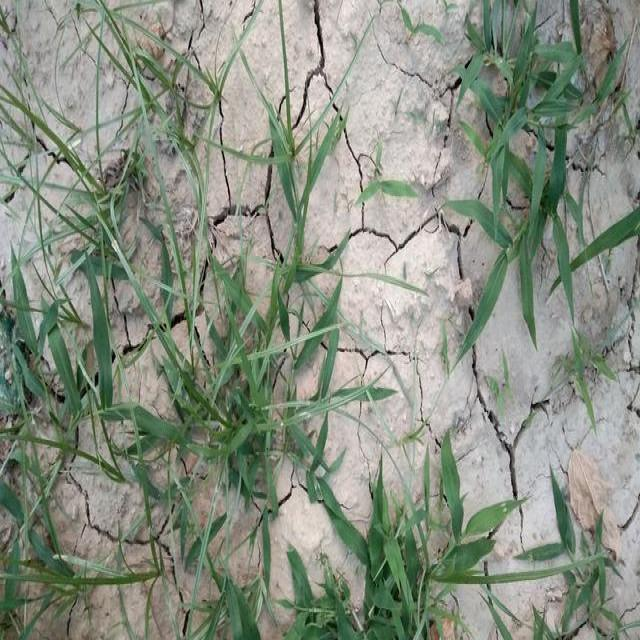weed: (218, 152, 374, 562), (8, 250, 177, 603), (486, 22, 640, 335), (28, 0, 211, 253), (338, 470, 506, 640), (528, 472, 617, 607), (582, 475, 640, 640), (185, 544, 269, 640)
